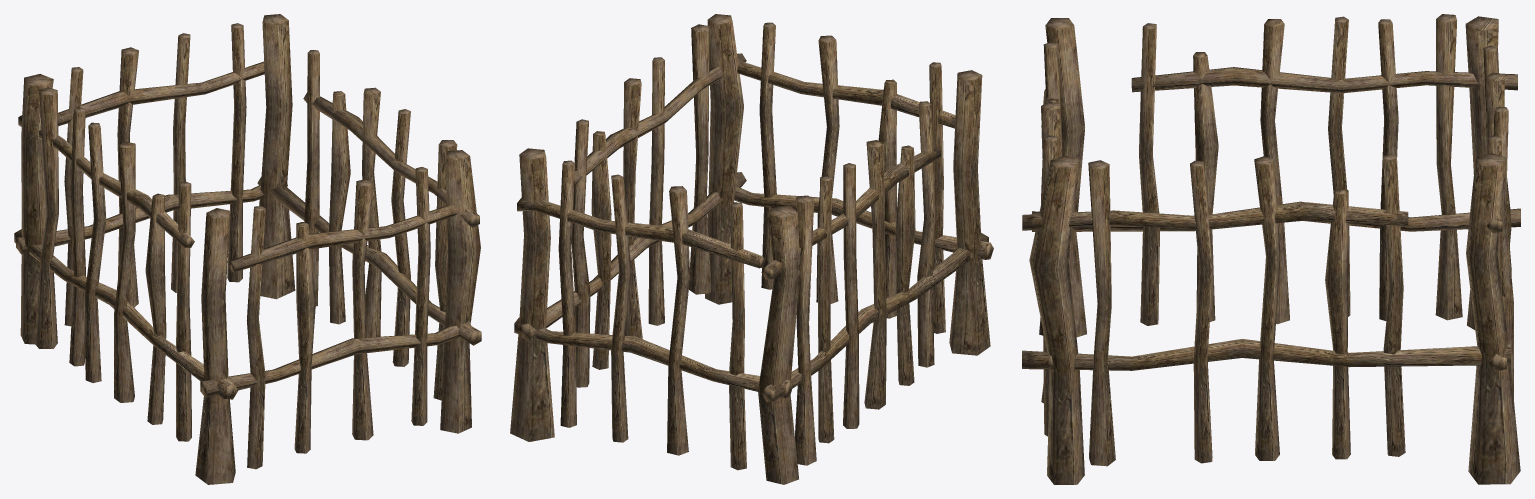
Rendered from S_Build_West033.FBX.
3 renders of one model, left to right at view 1: azimuth 30°, elevation 25°; view 2: azimuth 150°, elevation 25°; view 3: azimuth 270°, elevation 25°, orthographic. The views are drawn at different scales.
Visible parts, largest first — view 1: S_Build_West033; view 2: S_Build_West033; view 3: S_Build_West033.
Boxes of the visible parts, x1=… form: S_Build_West033: x1=14, y1=14, x2=481, y2=484; S_Build_West033: x1=510, y1=14, x2=993, y2=484; S_Build_West033: x1=1022, y1=14, x2=1520, y2=484.
Size of the model in its own units: 366 by 496 by 353.
